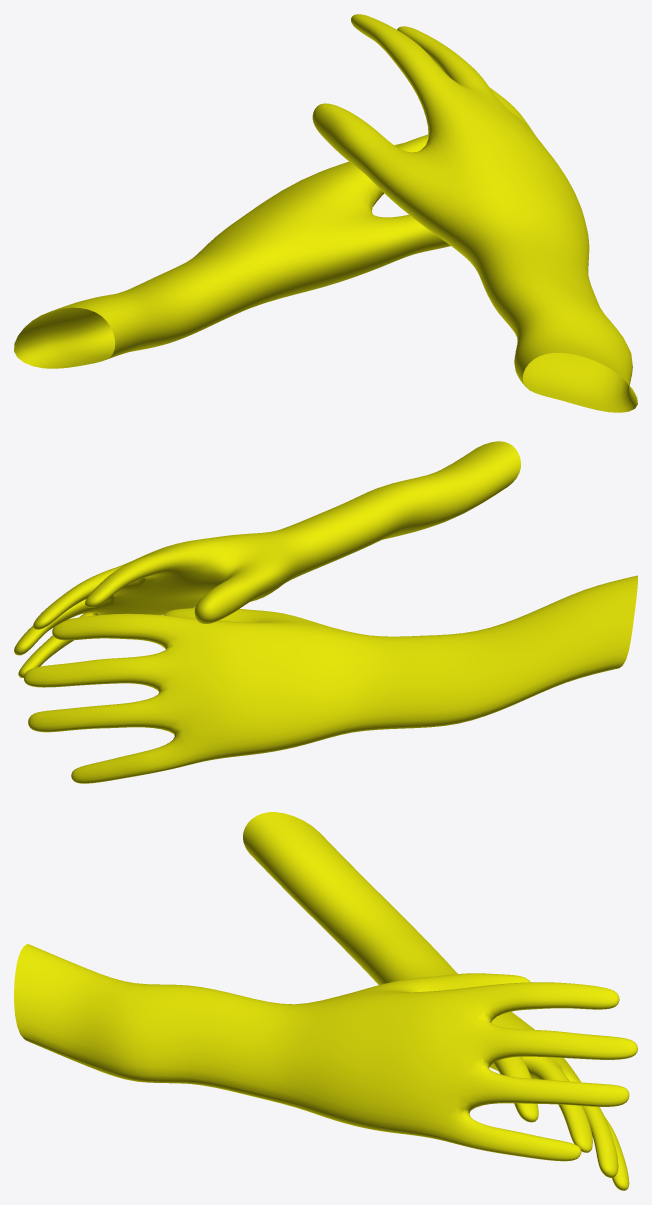
The model's file is Gloves.fbx.
The picture shows the model from 3 angles, top to bottom: view 1: azimuth 30°, elevation 25°; view 2: azimuth 150°, elevation 25°; view 3: azimuth 270°, elevation 25°; orthographic projection. The views are drawn at different scales.
Parts seen in each view (by area): view 1: gloves; view 2: gloves; view 3: gloves.
Part boxes in pixels (x1=…): gloves: x1=14, y1=14, x2=637, y2=412; gloves: x1=14, y1=441, x2=637, y2=783; gloves: x1=14, y1=812, x2=637, y2=1190.
Size of the model in its own units: 0.3378 by 0.124 by 0.3527.
